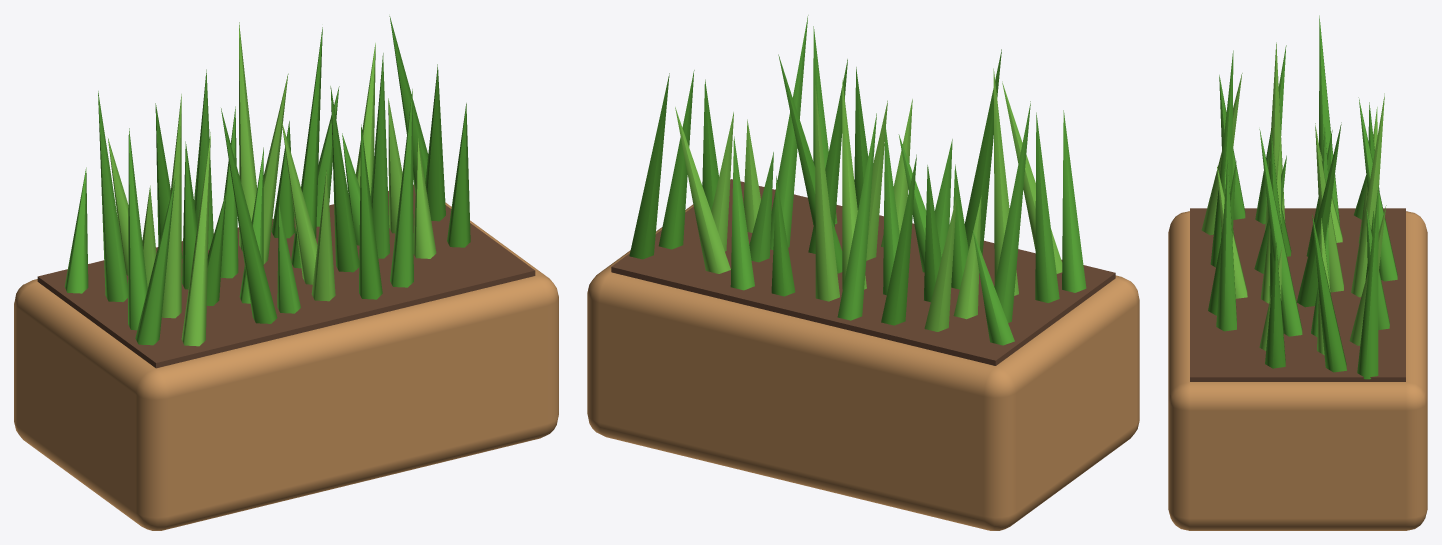
File: catnip-grass.glb
3 renders of one model, left to right at view 1: azimuth 30°, elevation 25°; view 2: azimuth 150°, elevation 25°; view 3: azimuth 270°, elevation 25°, orthographic. The views are drawn at different scales.
Size of the model in its own units: 0.82 by 0.7196 by 0.48.
